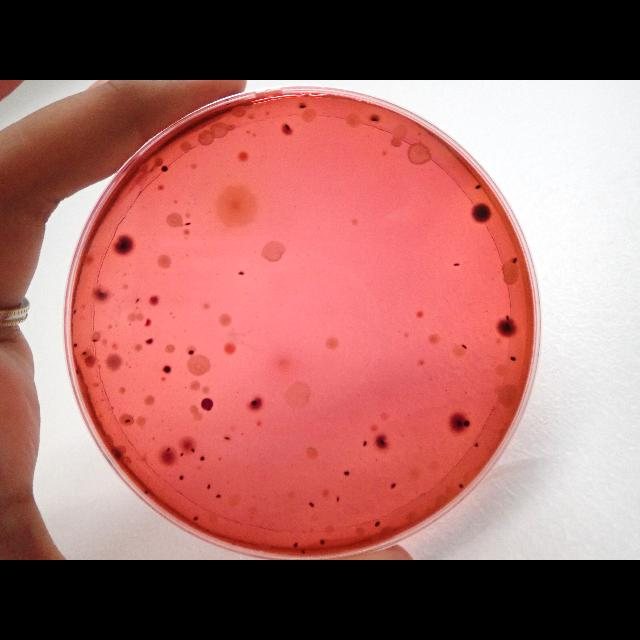colony: (112, 233, 136, 257), (471, 201, 493, 223), (497, 317, 518, 338), (449, 412, 466, 434), (200, 396, 214, 412), (376, 435, 388, 449), (148, 294, 160, 306), (96, 289, 108, 299), (282, 123, 294, 133), (162, 364, 172, 374), (473, 182, 481, 192), (250, 398, 258, 408), (370, 115, 380, 123), (464, 418, 471, 428), (343, 469, 351, 477), (161, 165, 169, 173), (238, 269, 246, 277), (512, 256, 518, 266), (362, 438, 368, 448), (390, 480, 396, 490), (145, 318, 151, 327), (461, 342, 467, 350), (374, 520, 380, 528), (308, 500, 314, 508), (320, 538, 326, 546), (192, 514, 198, 522), (124, 418, 132, 424), (146, 338, 154, 344), (454, 262, 461, 268), (509, 355, 516, 361), (506, 312, 510, 322), (473, 441, 479, 447), (458, 482, 464, 488), (190, 447, 196, 453), (200, 455, 206, 461), (144, 488, 148, 496), (187, 350, 195, 354), (299, 104, 307, 108), (223, 436, 230, 440), (336, 496, 340, 502), (294, 542, 298, 548), (301, 548, 305, 554), (215, 494, 221, 498), (180, 474, 184, 480), (167, 446, 171, 452), (92, 339, 98, 343), (73, 343, 77, 349), (73, 308, 77, 314), (136, 298, 140, 304), (185, 222, 191, 226), (207, 484, 211, 488), (180, 452, 184, 456)
